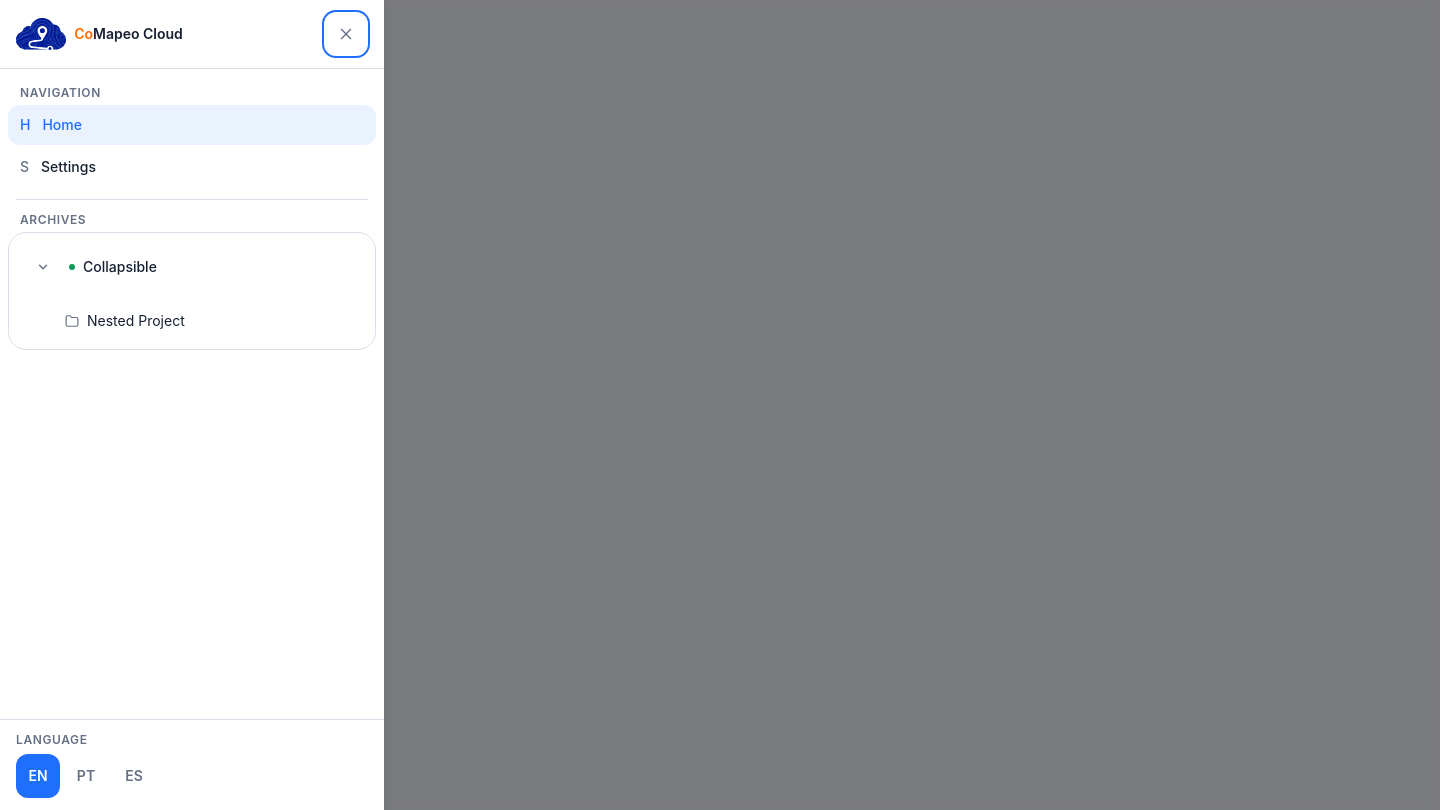
MobileNavDrawer › expands and collapses archive on toggle click
Expected: the text "Nested Project" is shown, [87,311,185,331]
Click the button named "Toggle archive section": (43, 267) [21,245,65,289]
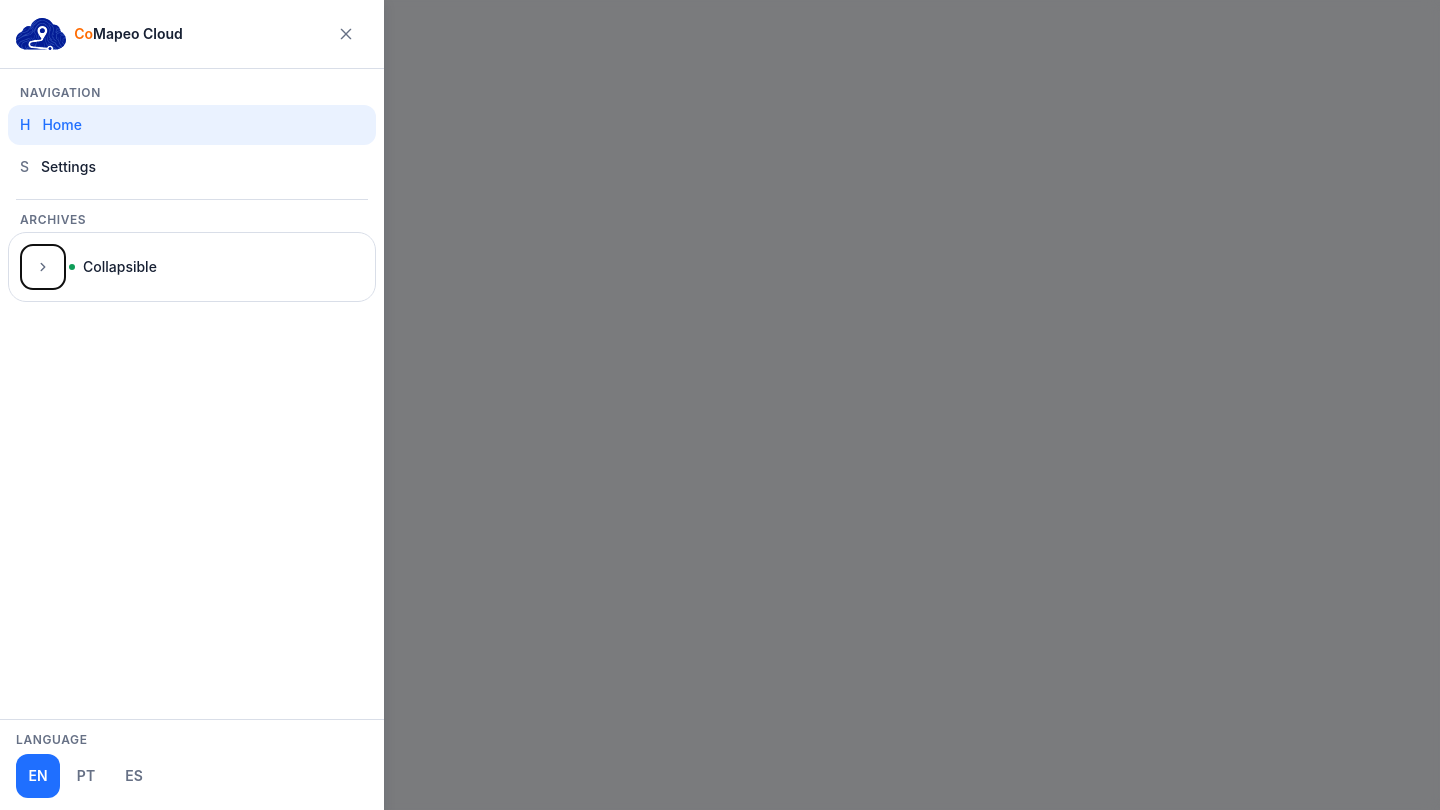
Result: the button "Nested Project" is gone
// Expand again
Click the button named "Toggle archive section": (43, 267) [21,245,65,289]
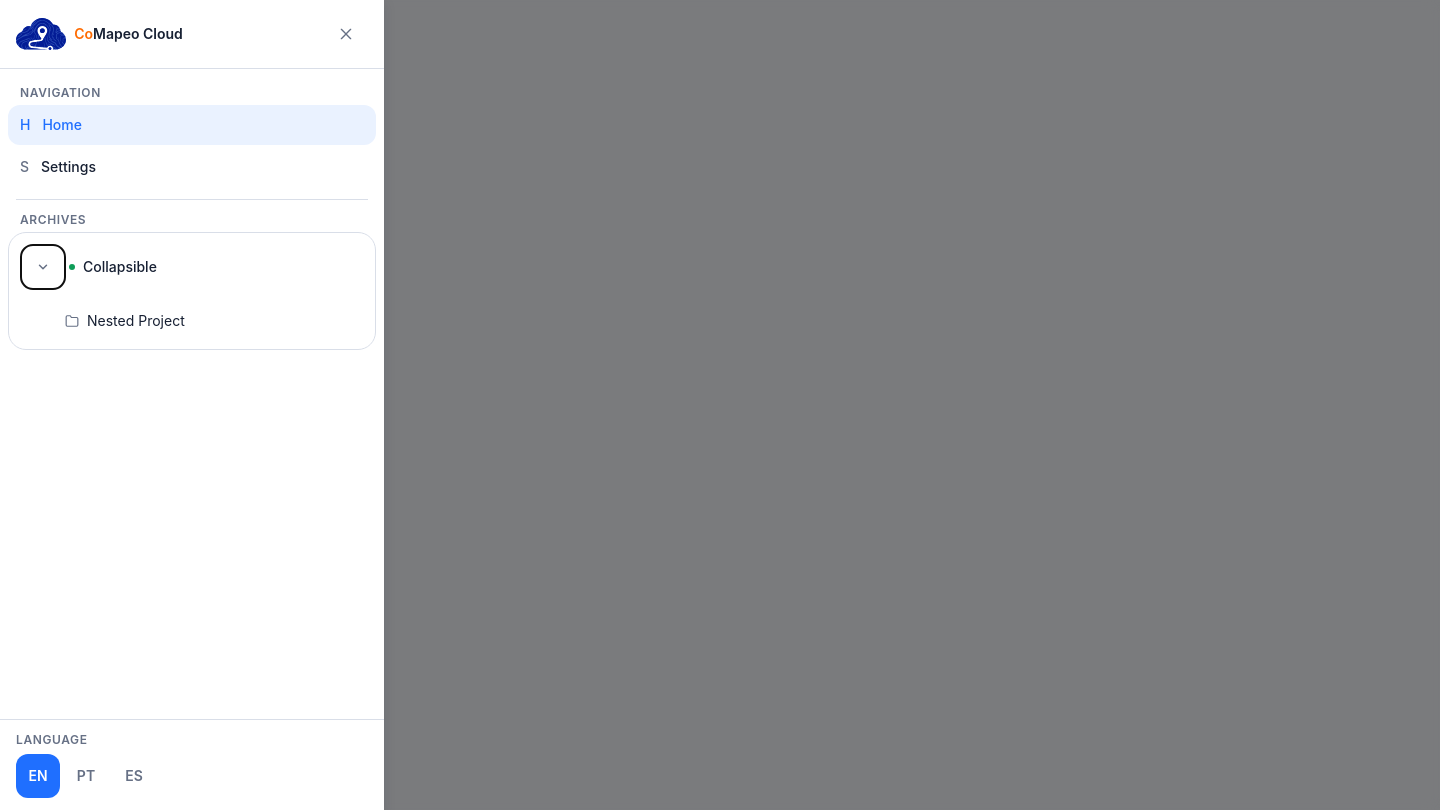
Result: the text "Nested Project" is shown at [87,311,185,331]
